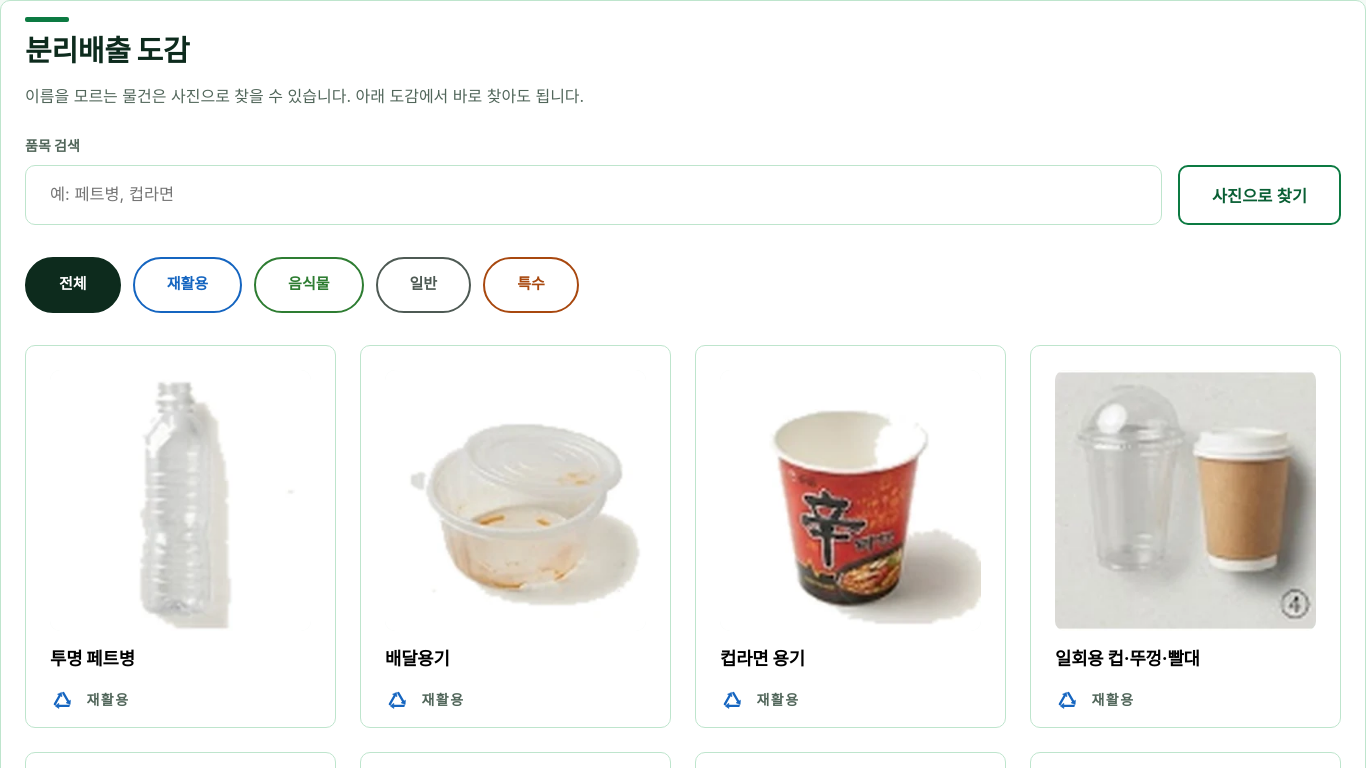
Test: CatalogSection › tells the user when nothing matches
The image size is (1366, 768).
Type "존재하지않는물건" into the search field labelled "품목 검색".
click(594, 195); type("존재하지않는물건")  # box [25,165,1162,225]
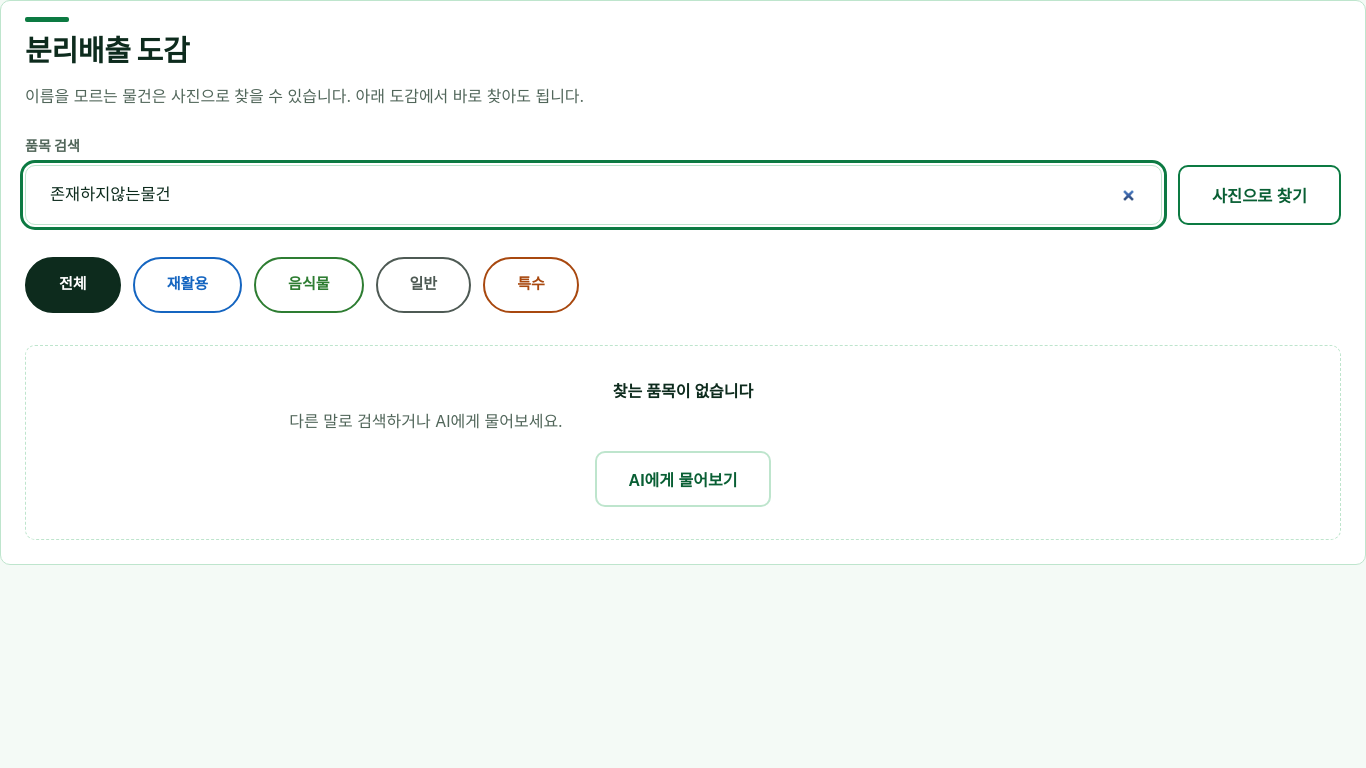
Result: the text "찾는 품목이 없습니다" is shown at [613,381,753,401]
